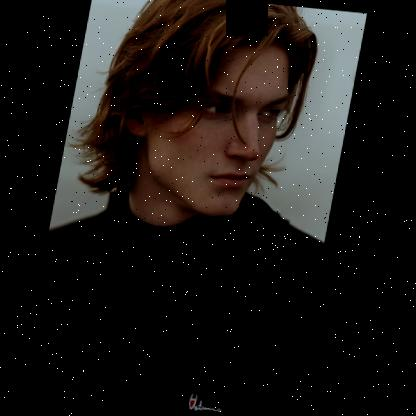Male: (116, 24, 298, 222)
